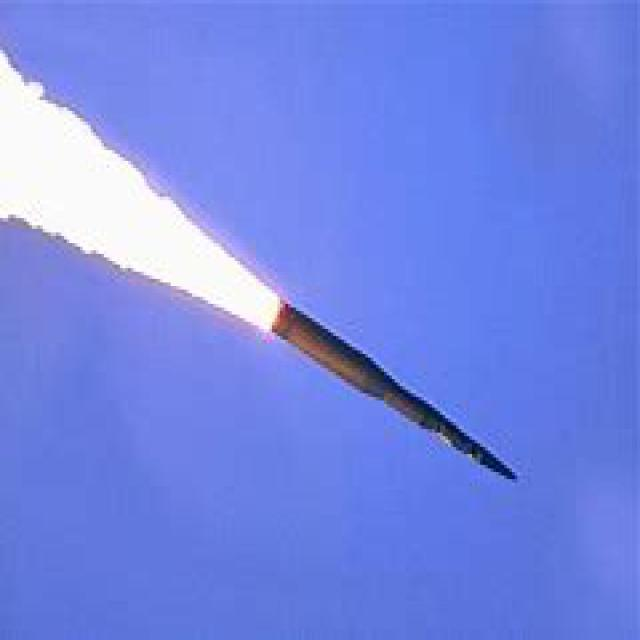missile: (262, 299, 522, 490)
